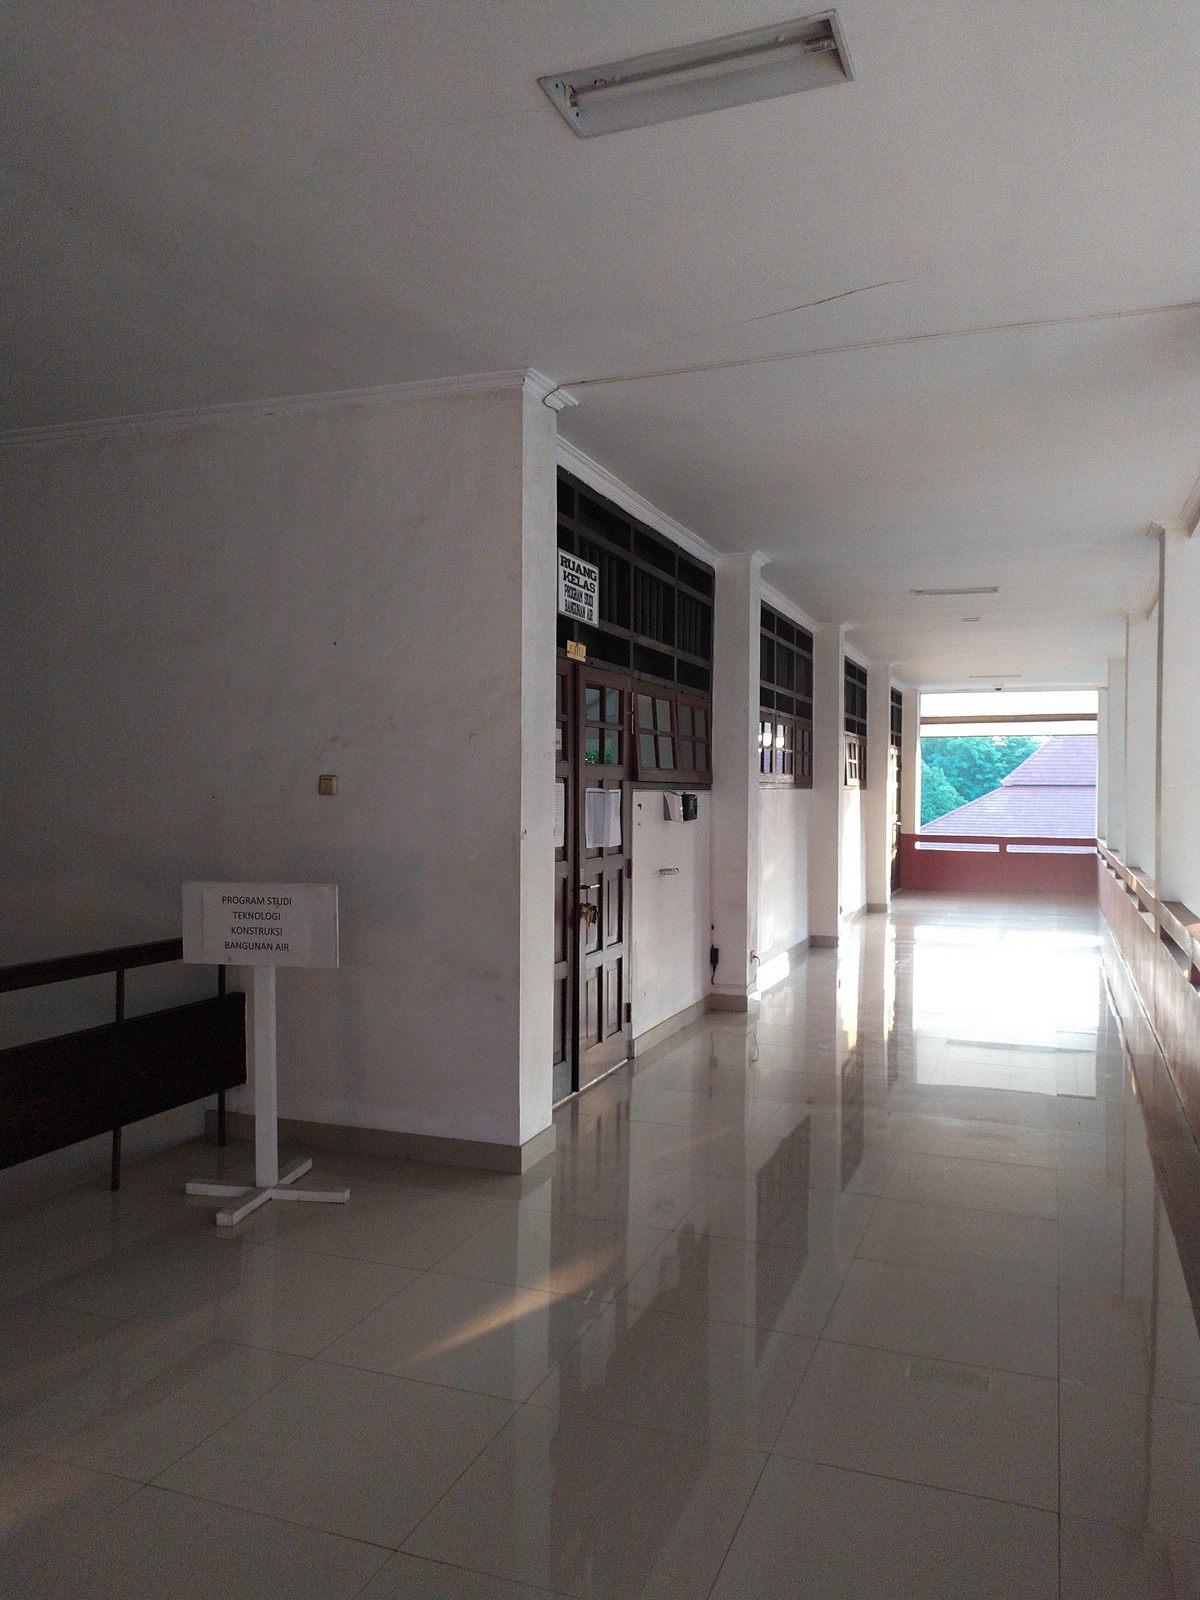concrete column: (706, 543, 768, 1012), (805, 614, 848, 951), (863, 641, 897, 922)
